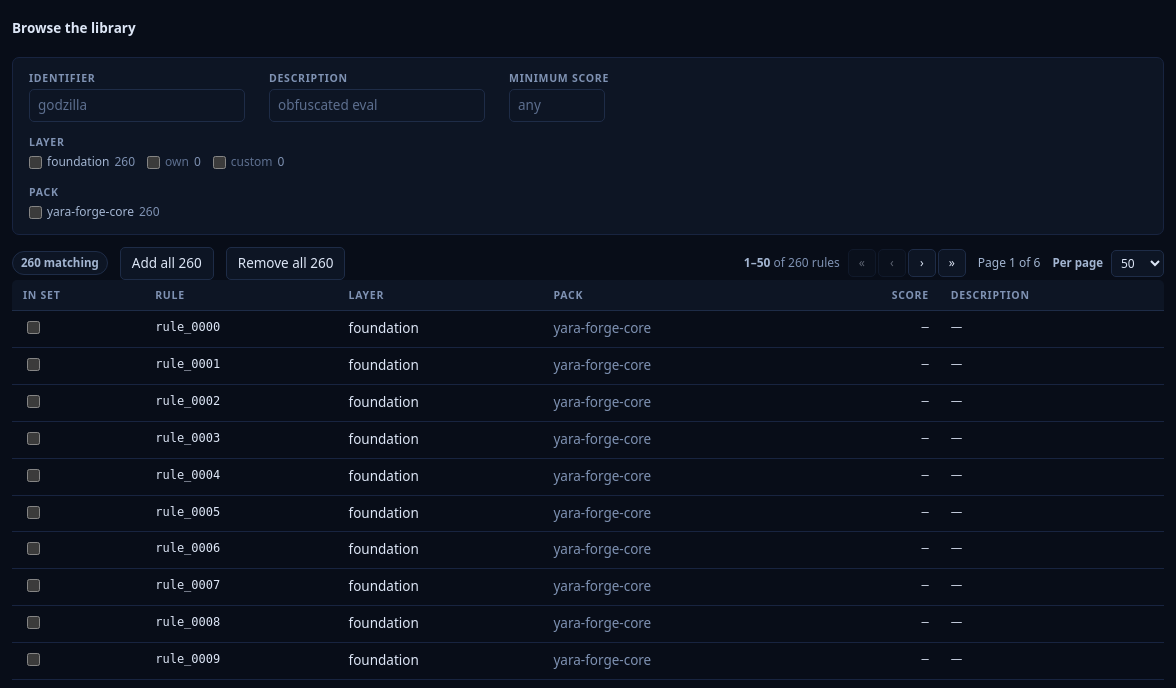
Test: filtering down from a deep page does not land on an empty one
Click the button named "last page" at (952, 263), box [938,249,966,278]
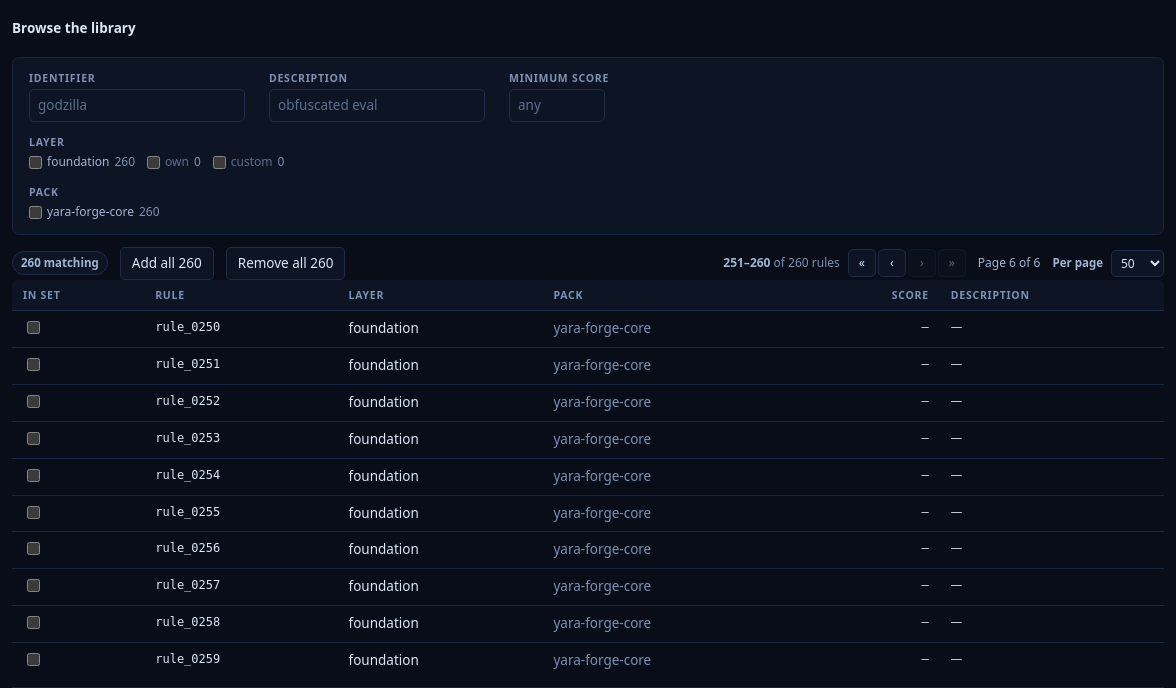
Type "rule_0007" into the field labelled "Identifier" at (137, 106), box [29,89,245,122]
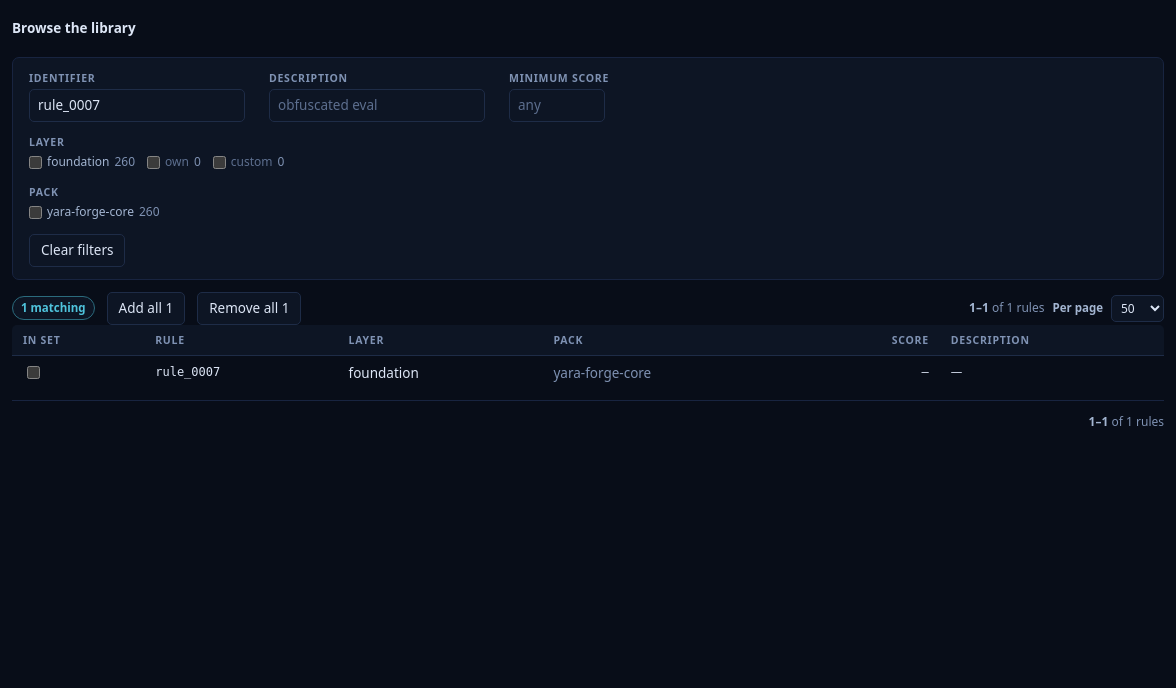
Now the text "rule_0007" is shown, box [144,355,338,392]
